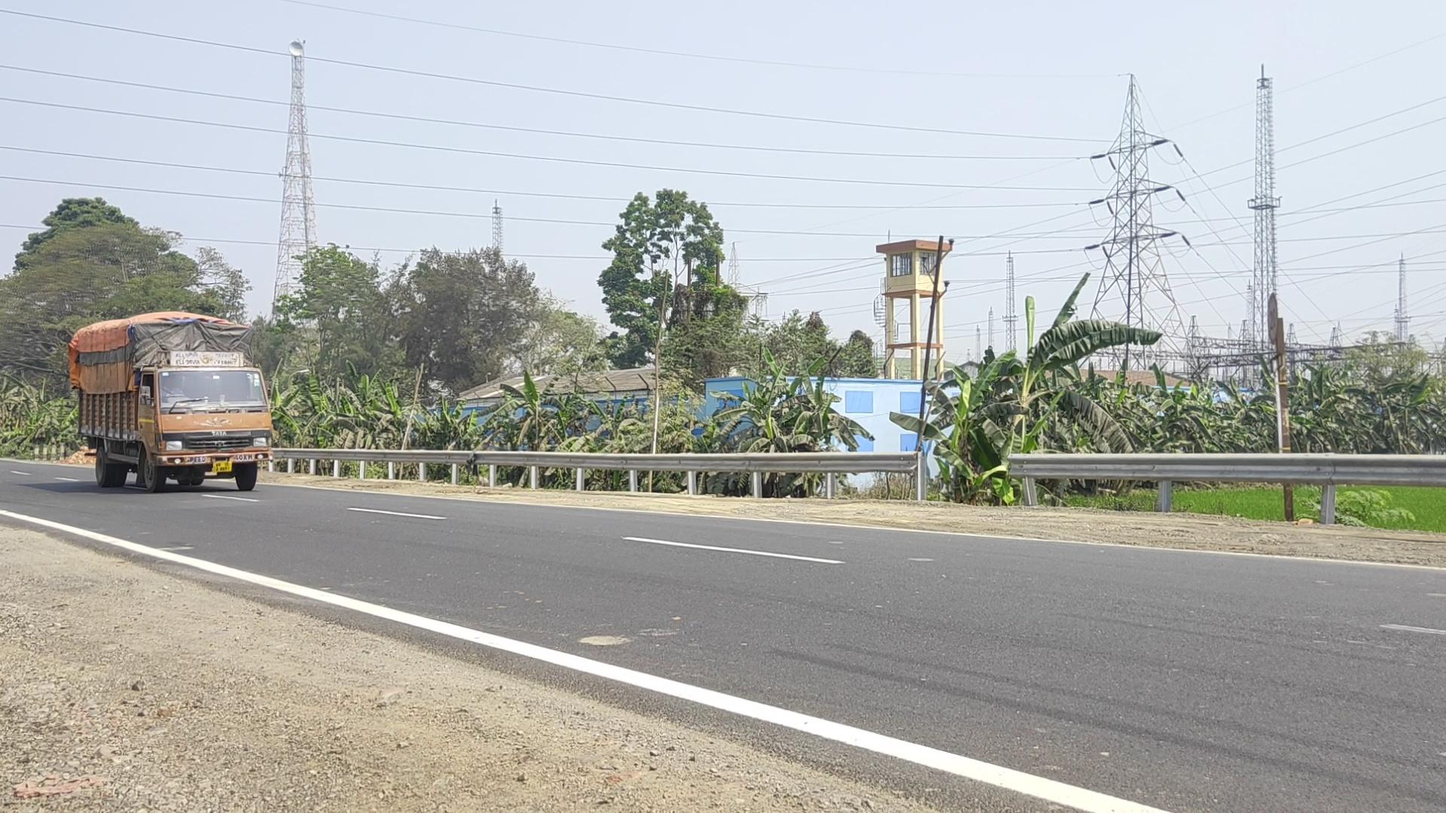truck: (69, 311, 273, 492)
